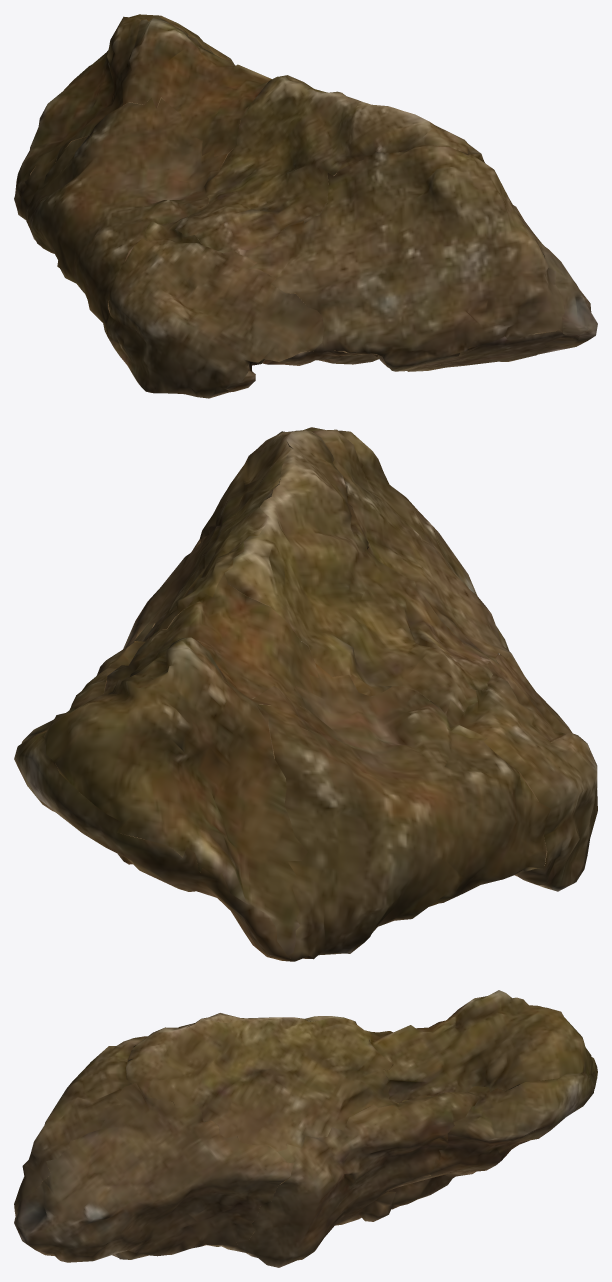
The model's file is LakesideRockHiFi.fbx.
The picture shows the model from 3 angles, top to bottom: view 1: azimuth 30°, elevation 25°; view 2: azimuth 150°, elevation 25°; view 3: azimuth 270°, elevation 25°; orthographic projection. The views are drawn at different scales.
Visible parts, largest first — view 1: rock_moss_set_01_rock01.001; view 2: rock_moss_set_01_rock01.001; view 3: rock_moss_set_01_rock01.001.
Boxes of the visible parts, left/top/right/bottom form: rock_moss_set_01_rock01.001: left=14, top=14, right=597, bottom=398; rock_moss_set_01_rock01.001: left=14, top=427, right=597, bottom=961; rock_moss_set_01_rock01.001: left=14, top=990, right=597, bottom=1267.
Bounding box in the file's own units: 2.24 × 1.47 × 3.37.
1 material, 1 textured.
